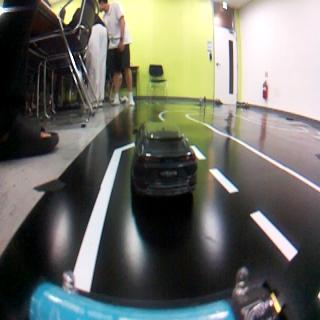car: (130, 116, 200, 196)
